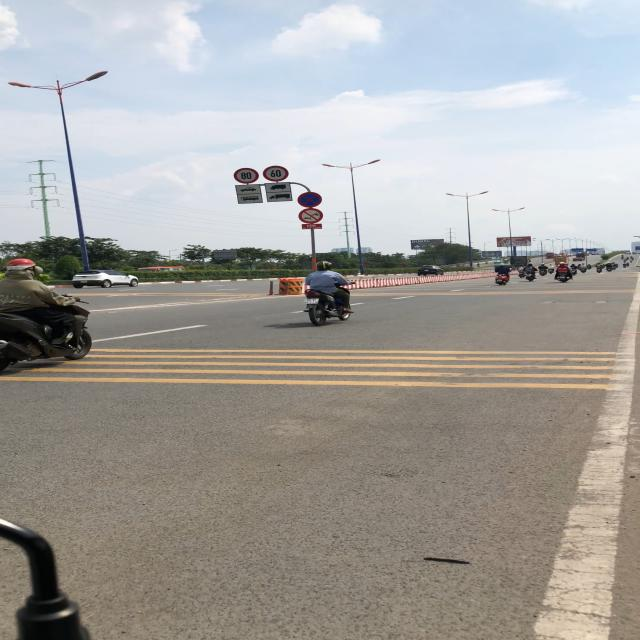Bien bao cam dung xe va do xe: (296, 191, 323, 208)
Bien bao toc do toi da cho phep: (260, 164, 291, 182), (232, 167, 261, 184)
